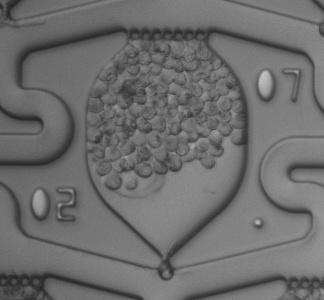AptNum: (248, 64, 310, 109)
Marker: (243, 209, 273, 236)
StNum: (23, 182, 85, 232)
Trap: (144, 258, 188, 300)
